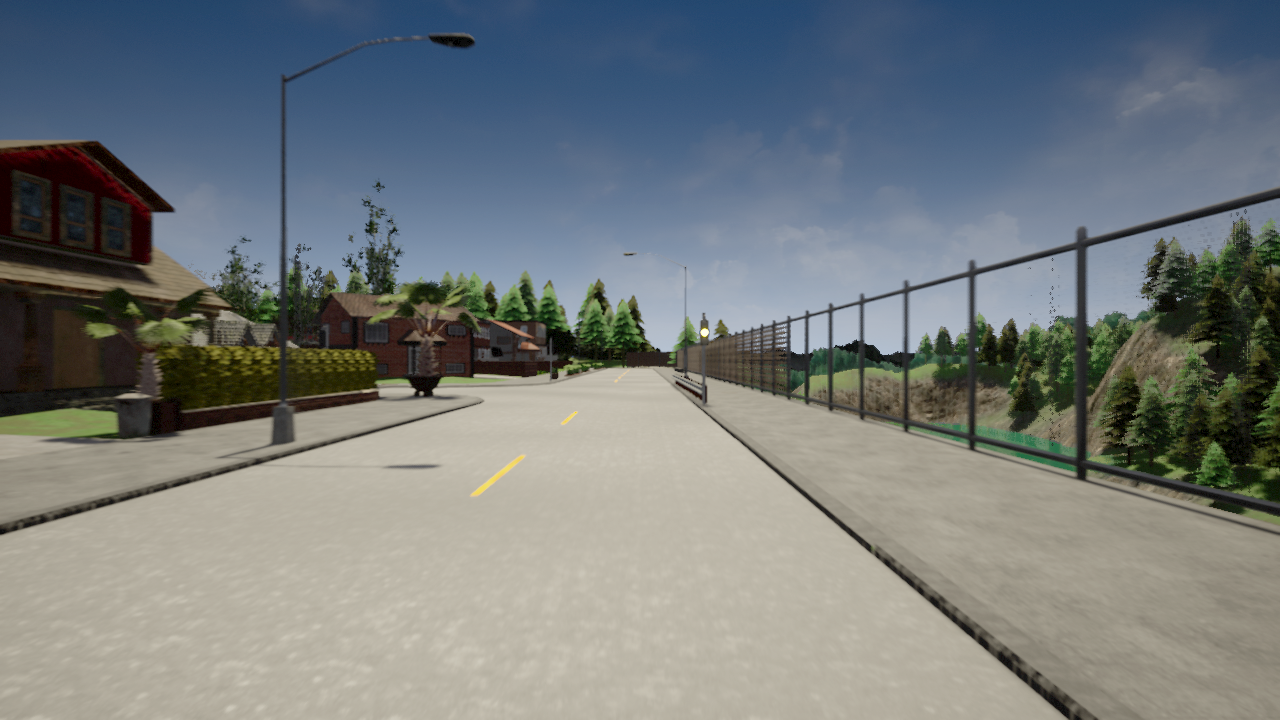yellow: (700, 319, 710, 344)
